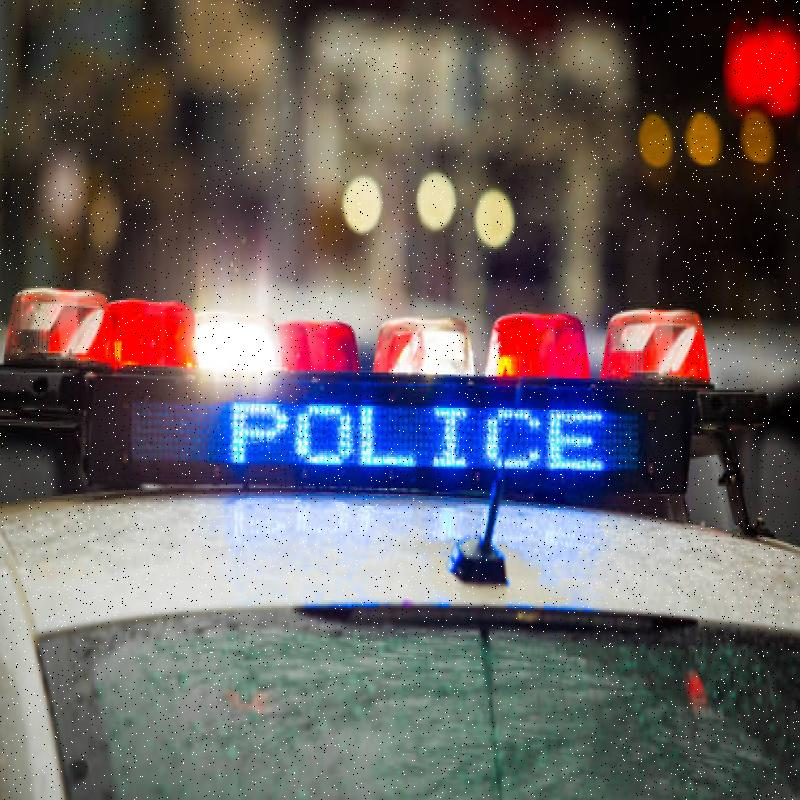AmbulanceSiren: (0, 292, 746, 458)
